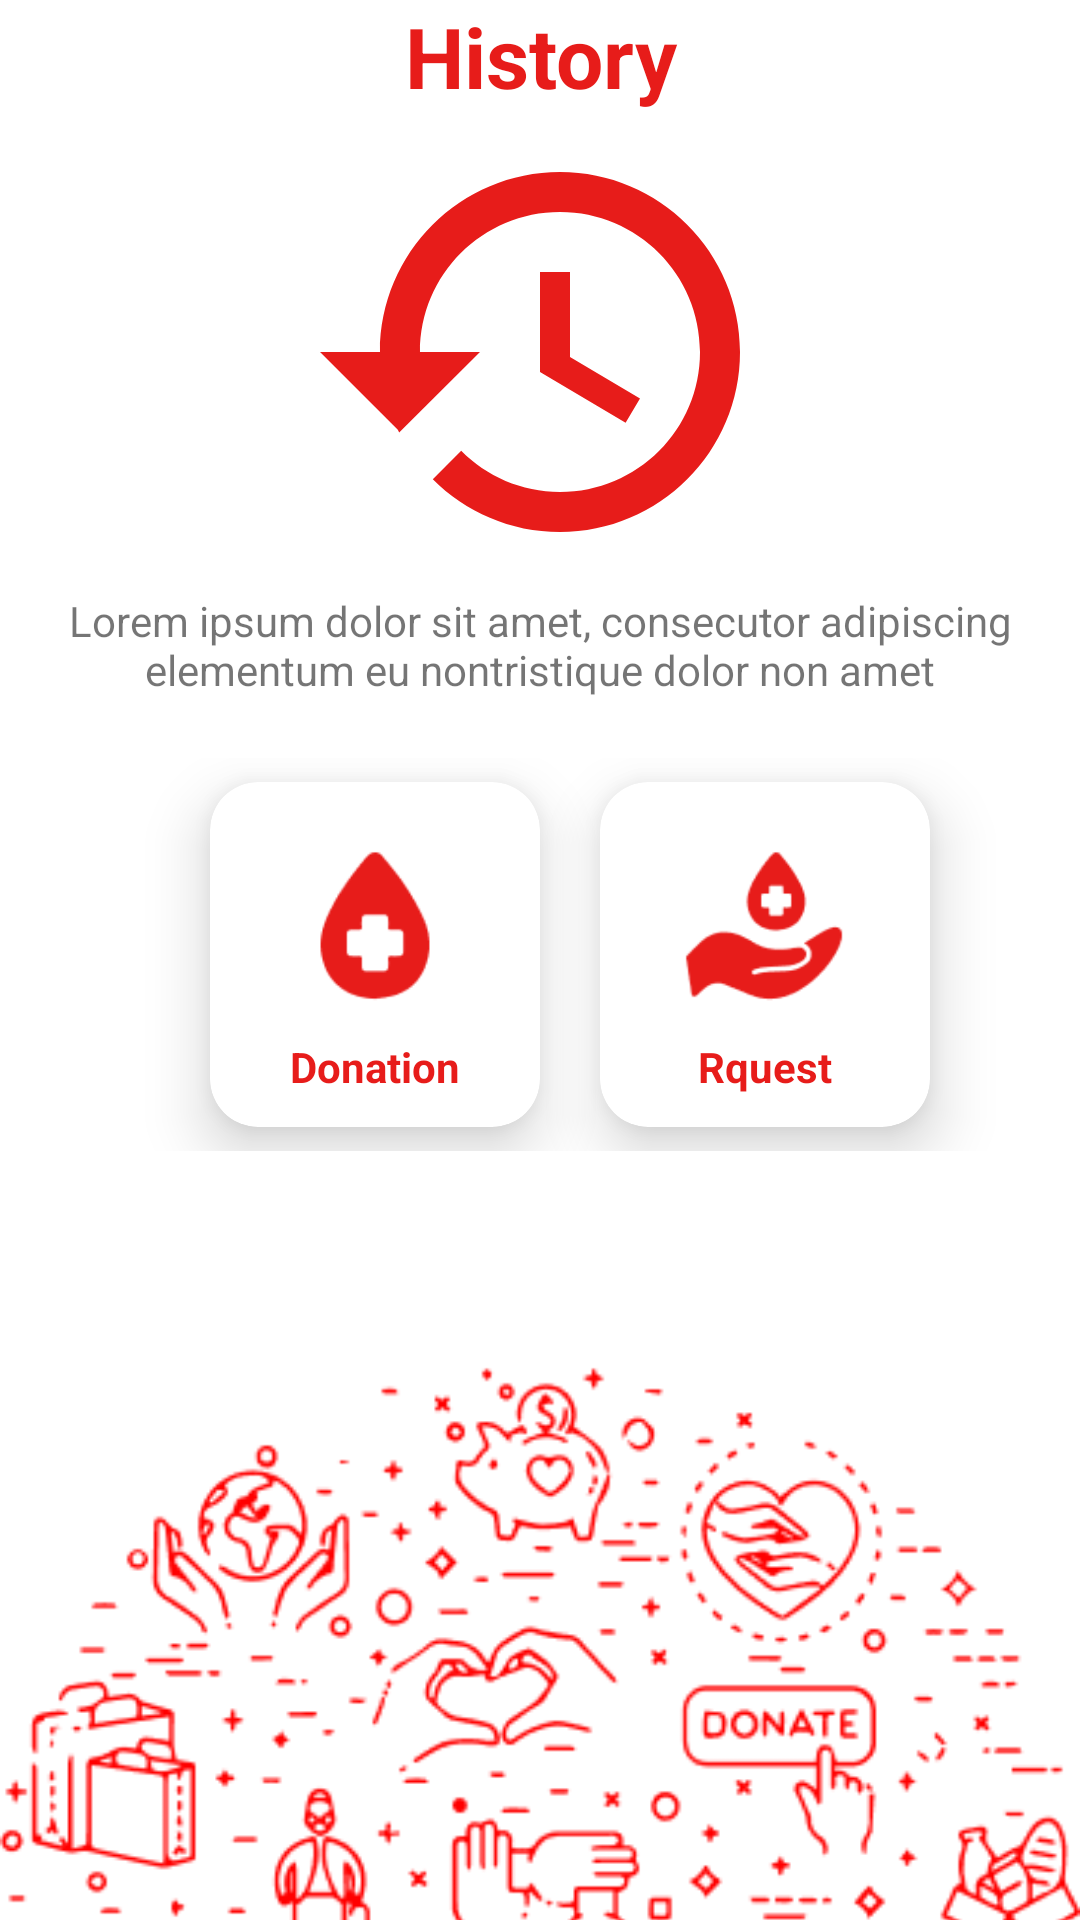

Screen size 1080x1920. Icon name, then its center in pixels as [x,y]:
donor: [375,925]
reciever: [764,926]
